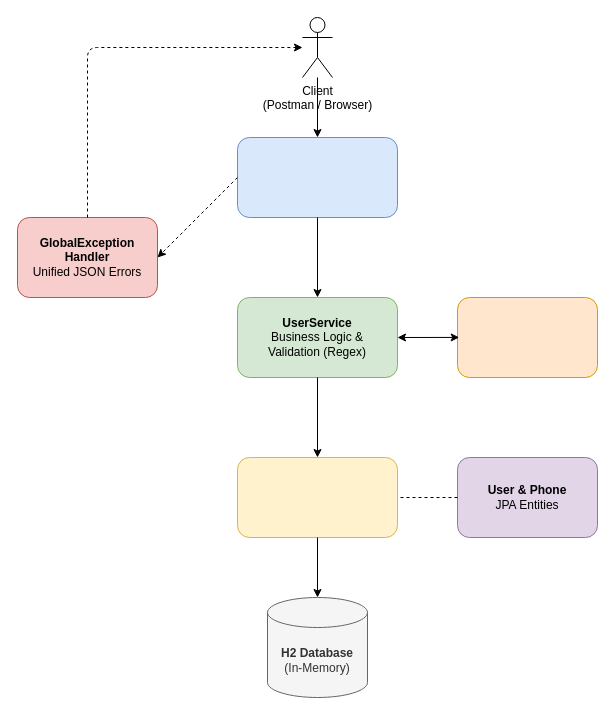
Some shapes in this 615 by 715 pixel diagram are drawn without their labels. The centre of each missing label's shape, as x and y in pixels:
"JwtTokenProvider Token Generation" goes at (x=527, y=337).
"UserController REST Endpoints (JSON API)" goes at (x=317, y=177).
"UserRepository JPA Data Access" goes at (x=317, y=497).
